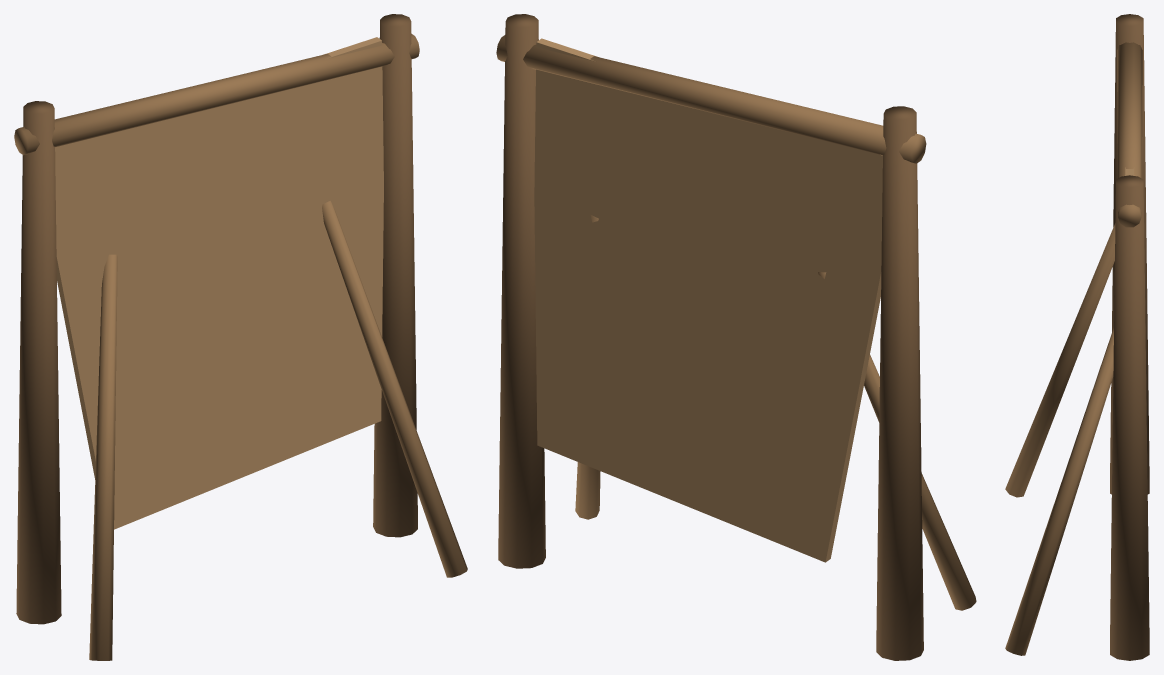
Rendered from tanning_rack.glb.
3 renders of one model, left to right at view 1: azimuth 30°, elevation 25°; view 2: azimuth 150°, elevation 25°; view 3: azimuth 270°, elevation 25°, orthographic. The views are drawn at different scales.
Visible parts, largest first — view 1: stretched_hide, rack_post_-0.5, rack_post_0.5, rack_crossbar, rack_brace_-0.5, rack_brace_0.5; view 2: stretched_hide, rack_post_-0.5, rack_post_0.5, rack_crossbar, rack_brace_-0.5, rack_brace_0.5; view 3: rack_post_0.5, rack_brace_0.5, rack_brace_-0.5, rack_crossbar, rack_post_-0.5.
Boxes of the visible parts, bbox=[...] form: stretched_hide: bbox=[55, 37, 383, 529]; rack_post_-0.5: bbox=[16, 101, 61, 624]; rack_post_0.5: bbox=[373, 14, 417, 537]; rack_crossbar: bbox=[14, 33, 419, 155]; rack_brace_-0.5: bbox=[89, 254, 117, 660]; rack_brace_0.5: bbox=[322, 201, 467, 577]; stretched_hide: bbox=[534, 38, 882, 562]; rack_post_-0.5: bbox=[876, 106, 923, 660]; rack_post_0.5: bbox=[498, 14, 545, 568]; rack_crossbar: bbox=[496, 35, 926, 163]; rack_brace_-0.5: bbox=[818, 272, 976, 610]; rack_brace_0.5: bbox=[575, 215, 600, 519]; rack_post_0.5: bbox=[1110, 175, 1149, 660]; rack_brace_0.5: bbox=[1005, 327, 1113, 655]; rack_brace_-0.5: bbox=[1005, 223, 1115, 497]; rack_crossbar: bbox=[1117, 42, 1142, 227]; rack_post_-0.5: bbox=[1110, 14, 1149, 494].
Size of the model in its own units: 1.11 by 1.37 by 0.3786.
